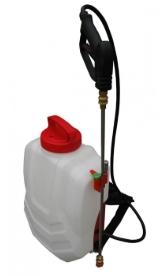PULVERISATEUR: (12, 5, 168, 276)
